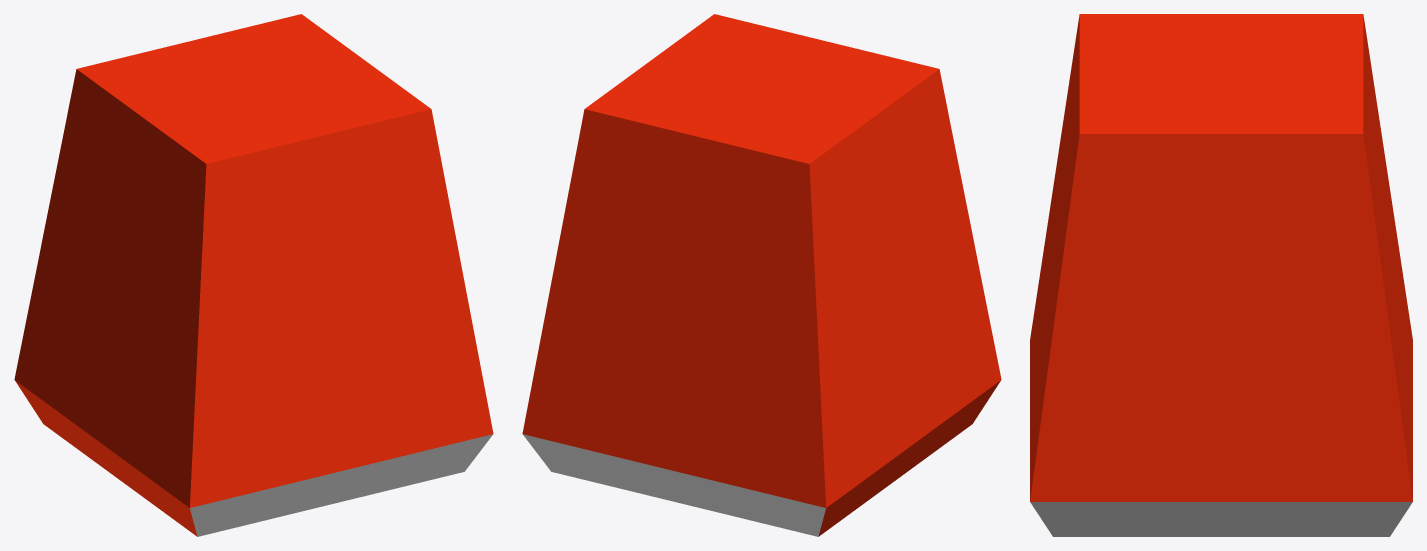
The model's file is Red_pipe.fbx.
3 views of the same model, side by side, from view 1: azimuth 30°, elevation 25°; view 2: azimuth 150°, elevation 25°; view 3: azimuth 270°, elevation 25° (orthographic). The views are drawn at different scales.
Visible parts, largest first — view 1: Cube.008; view 2: Cube.008; view 3: Cube.008.
Boxes of the visible parts, left/top/right/bottom form: Cube.008: left=14, top=14, right=493, bottom=536; Cube.008: left=522, top=14, right=1001, bottom=536; Cube.008: left=1030, top=14, right=1412, bottom=536.
Bounding box in the file's own units: 200 × 226 × 200.
